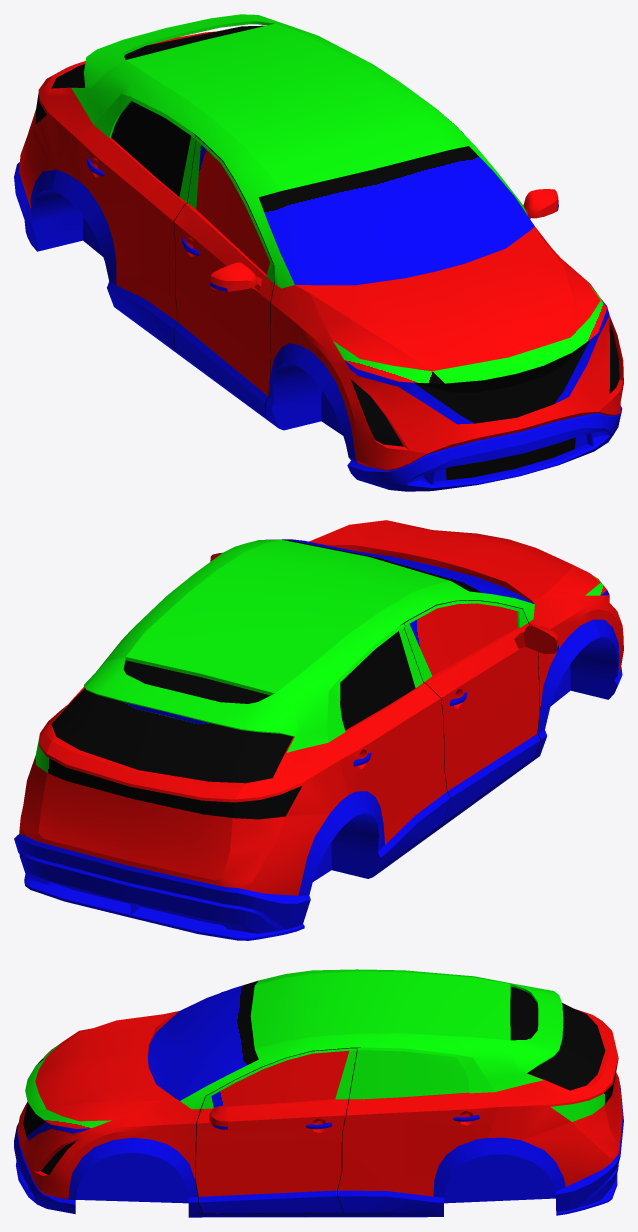
Rendered from crossover-ev-lod1.glb.
The picture shows the model from 3 angles, top to bottom: view 1: azimuth 30°, elevation 25°; view 2: azimuth 150°, elevation 25°; view 3: azimuth 270°, elevation 25°; orthographic projection. The views are drawn at different scales.
Visible parts, largest first — view 1: body; view 2: body; view 3: body.
Boxes of the visible parts, x1,y1,x2,y2 form: body: [14, 14, 623, 491]; body: [14, 520, 623, 940]; body: [14, 969, 623, 1217].
Size of the model in its own units: 2.28 by 1.37 by 4.5.
Materials: 3 (3 with a texture image).
